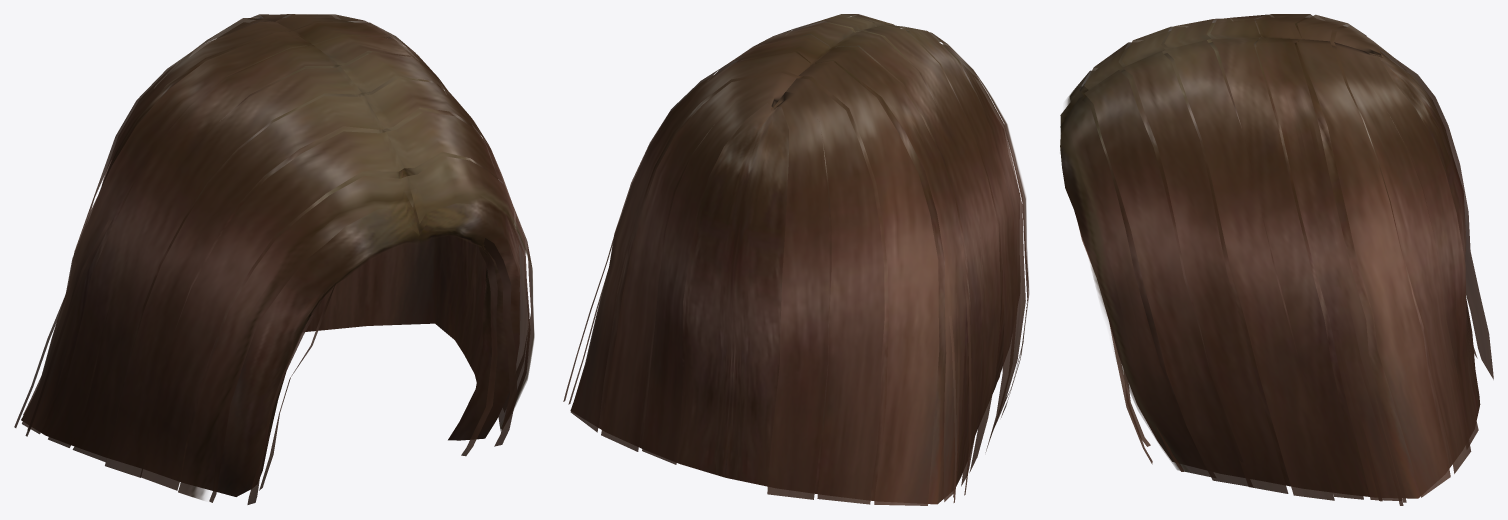
File: short.glb
3 renders of one model, left to right at view 1: azimuth 30°, elevation 25°; view 2: azimuth 150°, elevation 25°; view 3: azimuth 270°, elevation 25°, orthographic. The views are drawn at different scales.
Parts seen in each view (by area): view 1: hair_short; view 2: hair_short; view 3: hair_short.
Part boxes in pixels (left/top/right/bottom): hair_short: left=14, top=14, right=534, bottom=504; hair_short: left=563, top=14, right=1029, bottom=505; hair_short: left=1060, top=14, right=1493, bottom=505.
Bounding box in the file's own units: 0.2334 × 0.2016 × 0.2129.
Materials: 1 (1 with a texture image).
